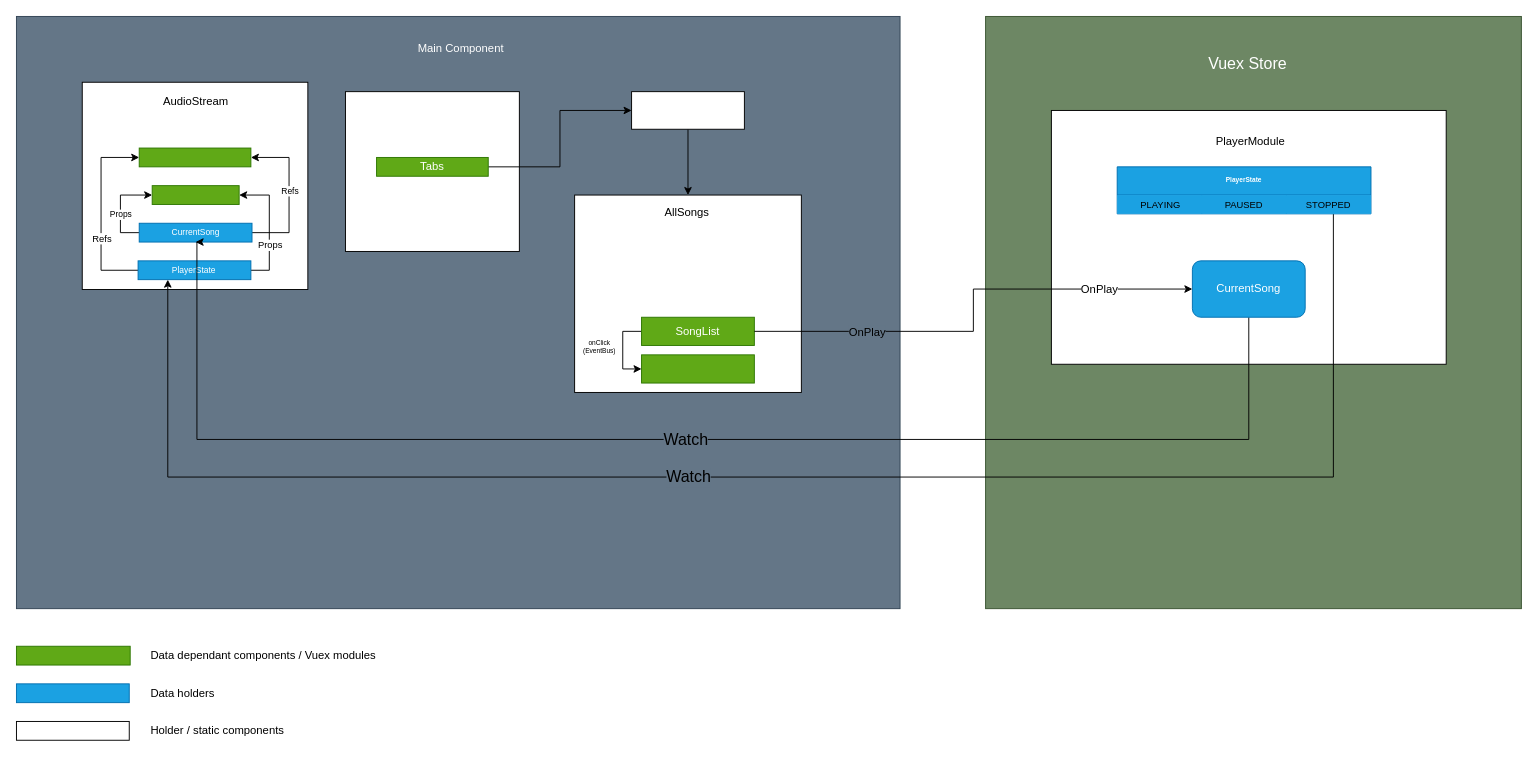
This 1538x757 diagram has some shape labels left out. The shapes that lost their labels are listed below. From the top down, each one's box as (x1, y1, x2, y2) in pixels, then its label:
(631, 91, 744, 129): Routerview
(138, 147, 251, 167): HTMLAudioElement
(345, 91, 519, 251): Sidebar
(151, 185, 239, 204): Musicbar
(641, 354, 754, 383): SongDetails
